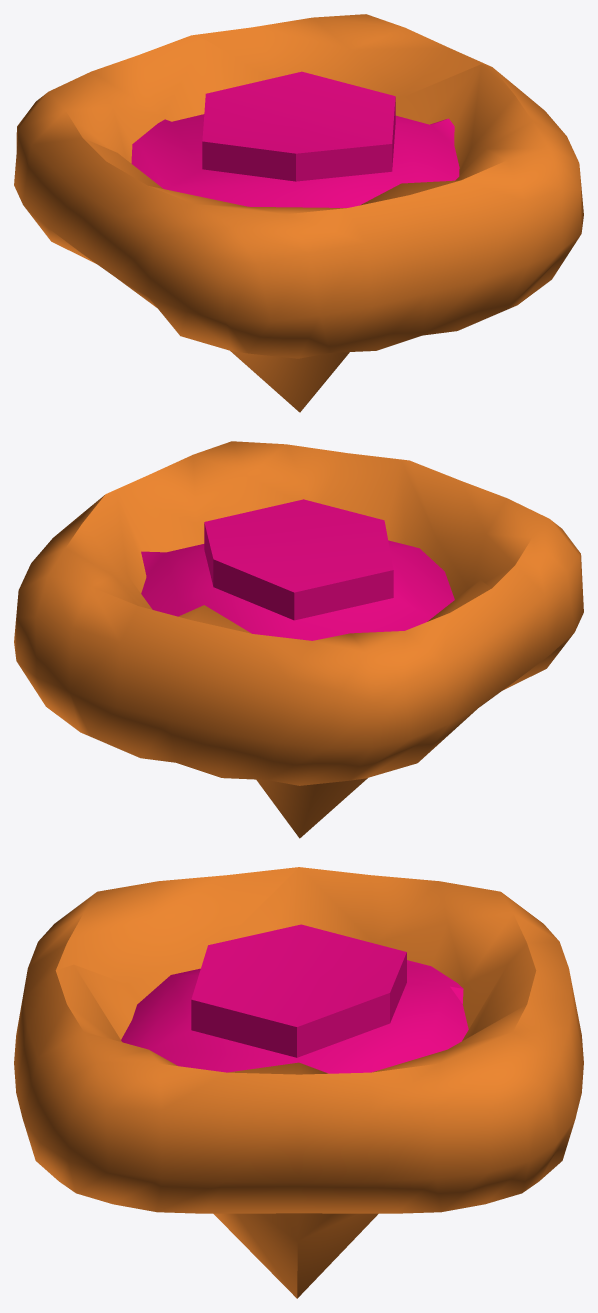
Rendered from Beyblade.fbx.
The picture shows the model from 3 angles, top to bottom: view 1: azimuth 30°, elevation 25°; view 2: azimuth 150°, elevation 25°; view 3: azimuth 270°, elevation 25°; orthographic projection. The views are drawn at different scales.
Visible parts, largest first — view 1: Cube, Icosphere; view 2: Cube, Icosphere; view 3: Cube, Icosphere.
Part boxes in pixels (bbox=[...]): Cube: bbox=[14, 14, 583, 412]; Icosphere: bbox=[131, 71, 459, 207]; Cube: bbox=[14, 441, 583, 838]; Icosphere: bbox=[141, 499, 454, 640]; Cube: bbox=[14, 867, 583, 1298]; Icosphere: bbox=[121, 924, 468, 1073].
Size of the model in its own units: 309 by 207 by 320.
